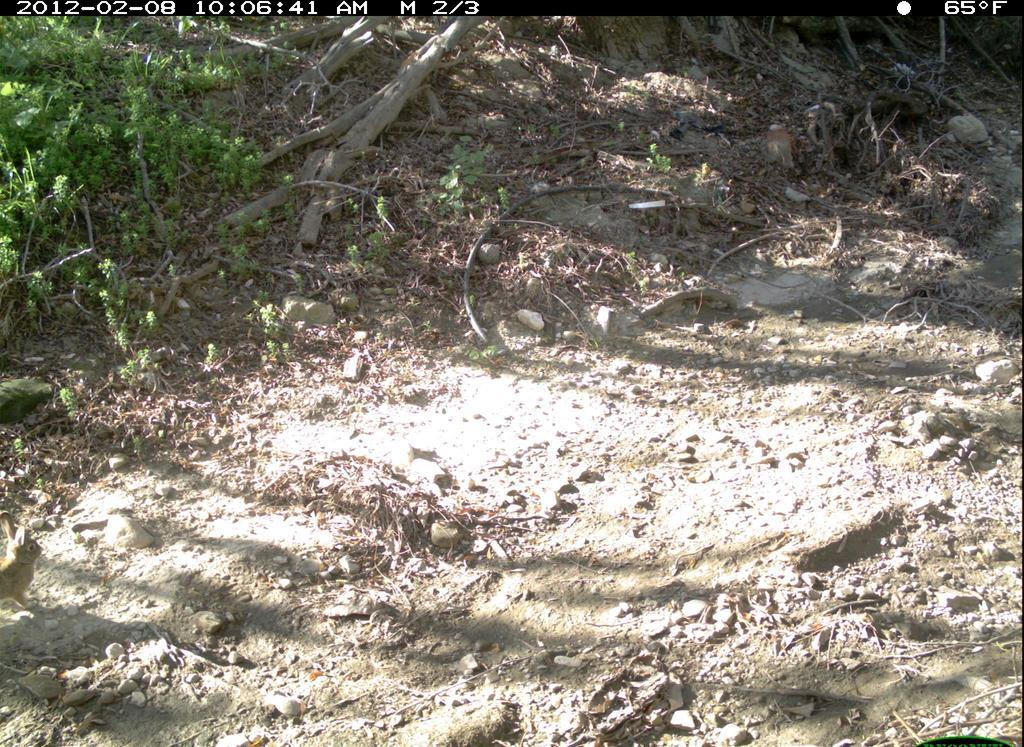rabbit: (6, 516, 56, 620)
